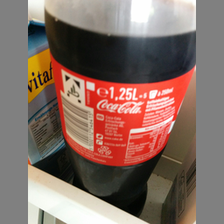soda: (44, 1, 196, 216)
